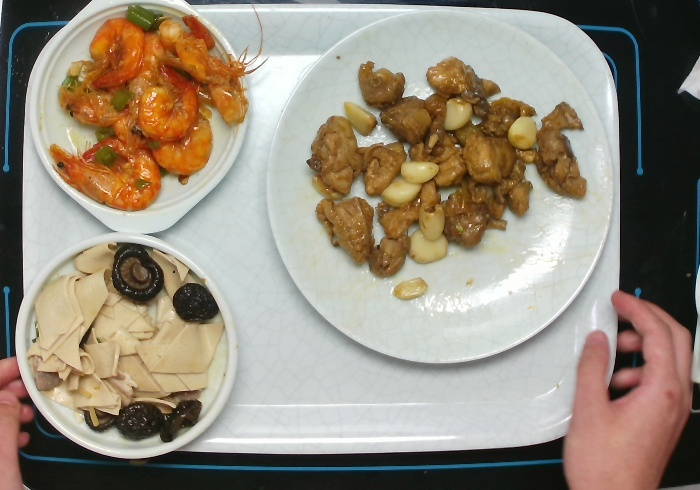JYsf-Da_Yuan_Pan: (262, 7, 617, 367)
JYsf-Shuang_Er_Pan: (26, 1, 250, 237)
JYsf-Xiao_Yuan_Pan: (12, 229, 240, 460)
